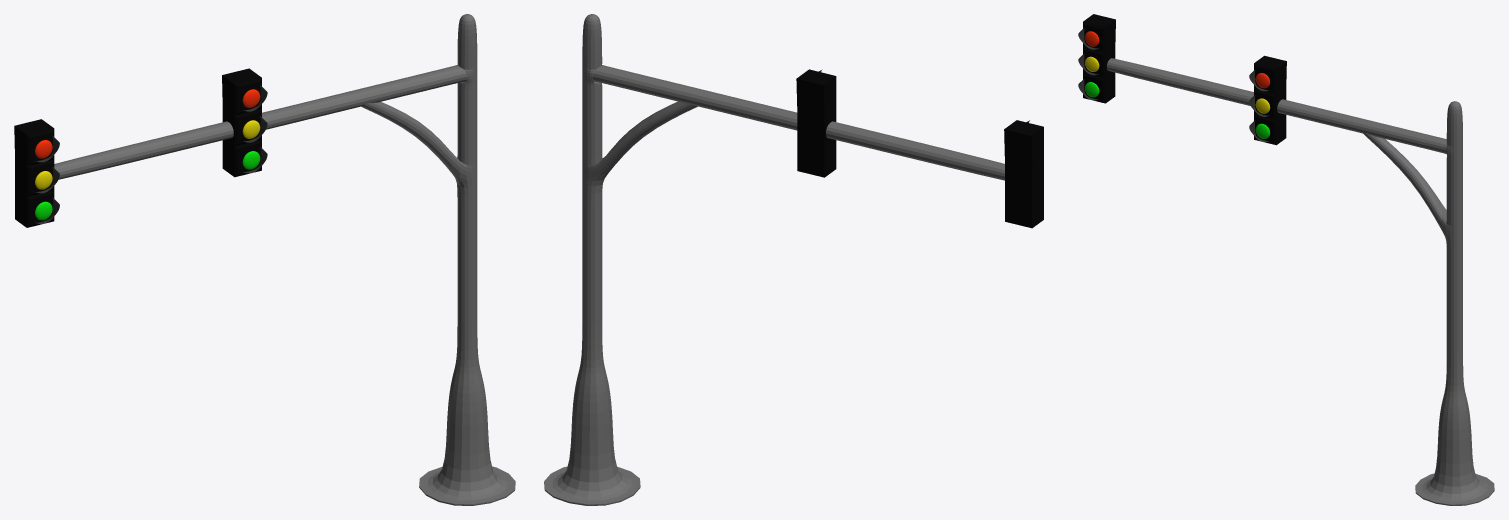
File: TrafficLight.fbx
3 renders of one model, left to right at view 1: azimuth 30°, elevation 25°; view 2: azimuth 150°, elevation 25°; view 3: azimuth 330°, elevation 25°, orthographic. The views are drawn at different scales.
Visible parts, largest first — view 1: Trafikljusstolpe (stor), Cube.045, Cube.054, Cube.048, Cube.039, Cube.042, Cube.051; view 2: Trafikljusstolpe (stor), Cube.054, Cube.045, Cube.048, Cube.039, Cube.042, Cube.051; view 3: Trafikljusstolpe (stor), Cube.045, Cube.054, Cube.039, Cube.048, Cube.042, Cube.051.
Boxes of the visible parts, x1,y1,x2,y2 form: Trafikljusstolpe (stor): (54, 14, 515, 505); Cube.045: (14, 119, 54, 165); Cube.054: (222, 68, 261, 115); Cube.048: (222, 139, 261, 177); Cube.039: (15, 188, 54, 227); Cube.042: (15, 157, 54, 196); Cube.051: (222, 107, 261, 146); Trafikljusstolpe (stor): (544, 14, 1004, 505); Cube.054: (796, 69, 836, 115); Cube.045: (1004, 120, 1043, 166); Cube.048: (797, 139, 836, 177); Cube.039: (1005, 189, 1043, 228); Cube.042: (1005, 158, 1043, 196); Cube.051: (797, 107, 836, 146); Trafikljusstolpe (stor): (1107, 58, 1494, 505); Cube.045: (1083, 14, 1115, 52); Cube.054: (1254, 55, 1286, 94); Cube.039: (1083, 72, 1115, 103); Cube.048: (1254, 114, 1286, 145); Cube.042: (1083, 46, 1115, 78); Cube.051: (1254, 87, 1286, 119).
Bounding box in the file's own units: 1075 × 999 × 183.
